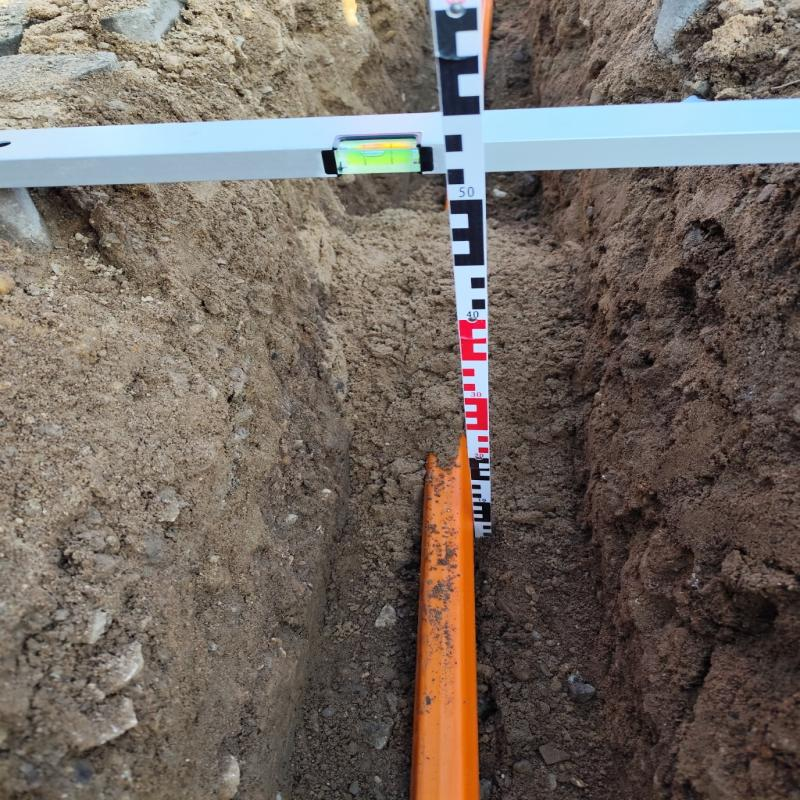Orang-Speednetrohrchen: (419, 445, 474, 798)
